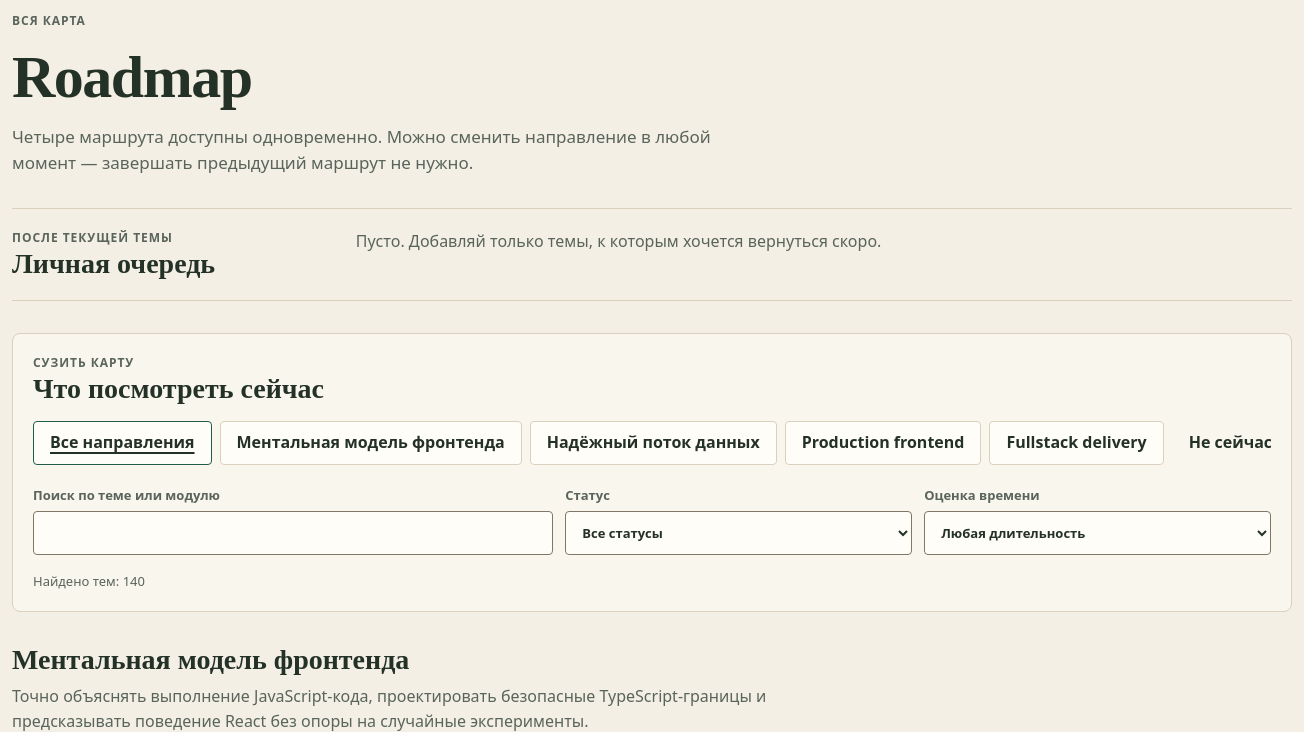
RoadmapPage › reveals deferred topics only through the explicit «Не сейчас» control
The width and height of the screenshot is (1304, 732).
Click the button "Не сейчас" at [1230, 443], box [1172, 421, 1289, 465]
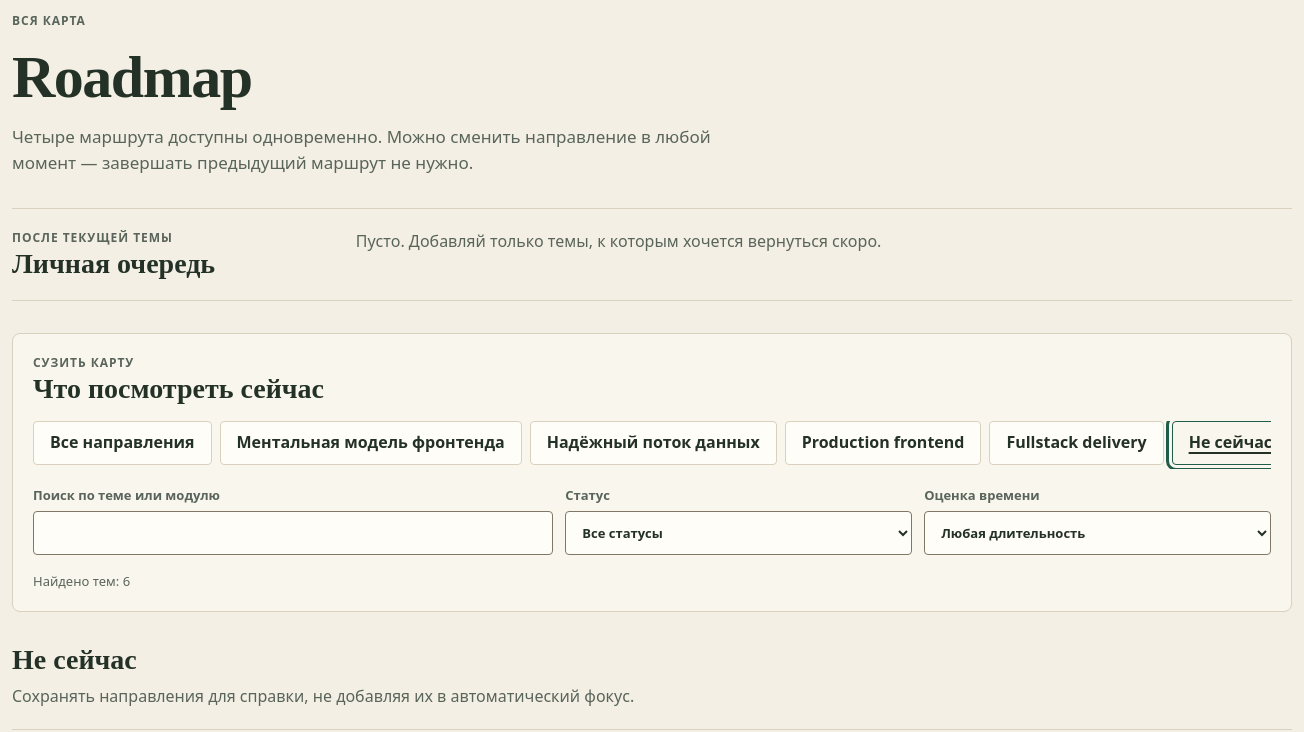
Expected: the heading "Не сейчас" is shown, [12, 644, 137, 675]
